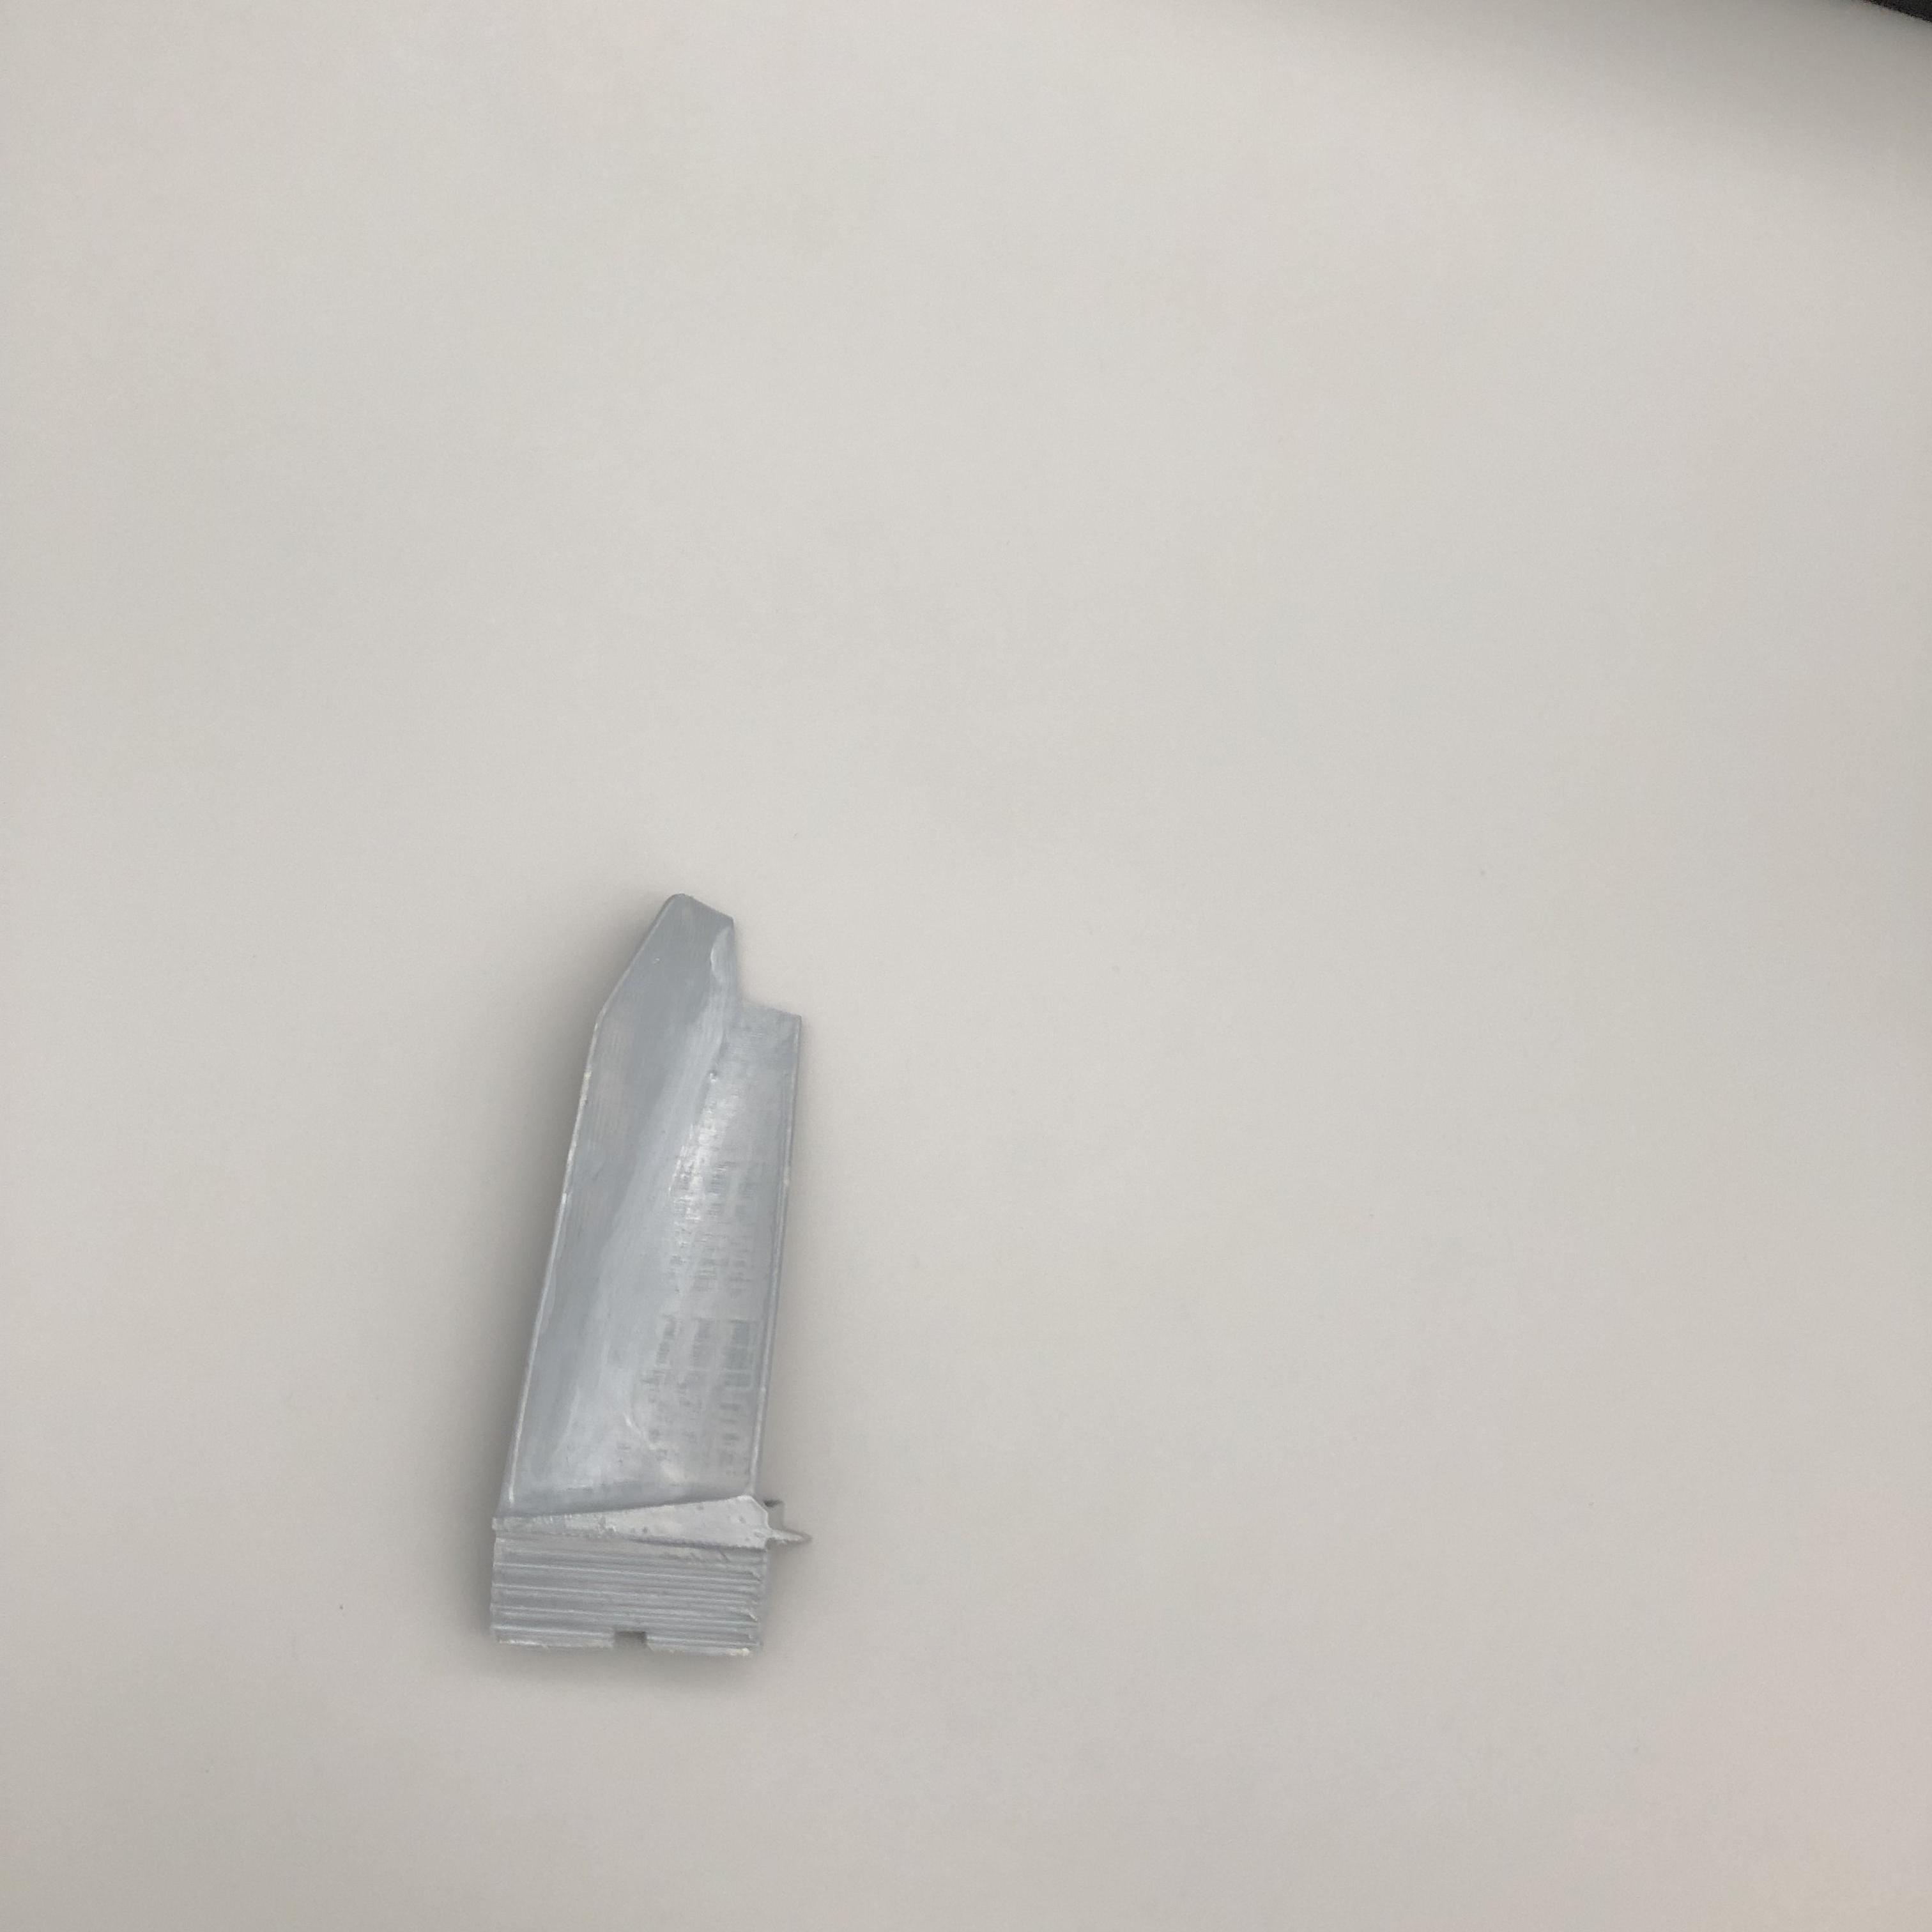fracture: (715, 922, 817, 1044)
